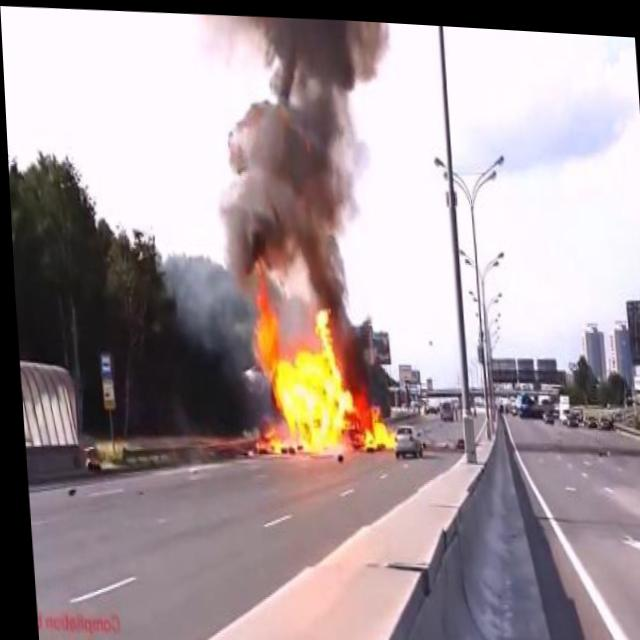fire: (236, 268, 396, 460)
